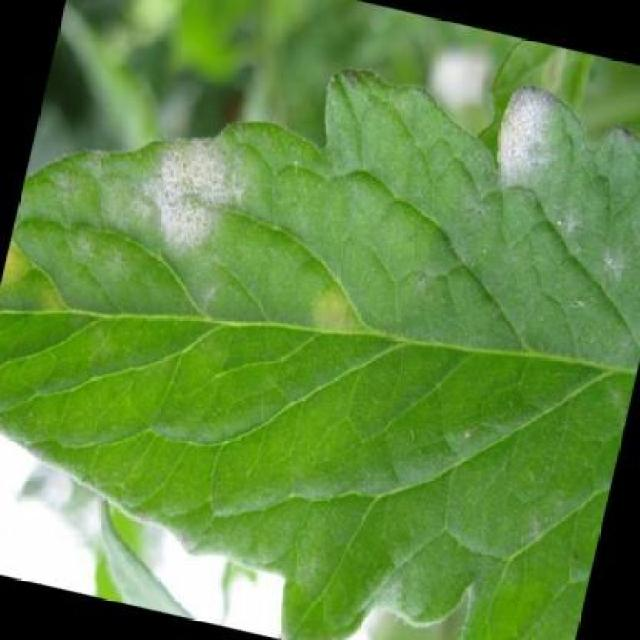Leaf Mold: (0, 0, 638, 494)
